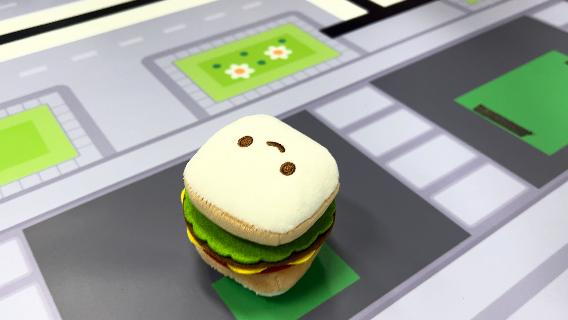sandwich: (179, 112, 343, 298)
